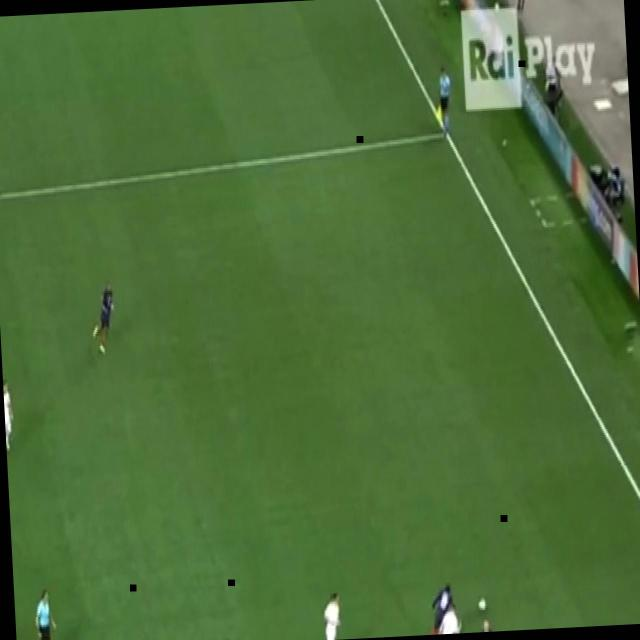ball: (477, 595, 487, 611)
player-white: (88, 276, 119, 359), (419, 576, 459, 636), (27, 583, 59, 640), (436, 60, 456, 140), (314, 588, 342, 640), (426, 599, 464, 635), (2, 375, 16, 466), (472, 615, 498, 632)
